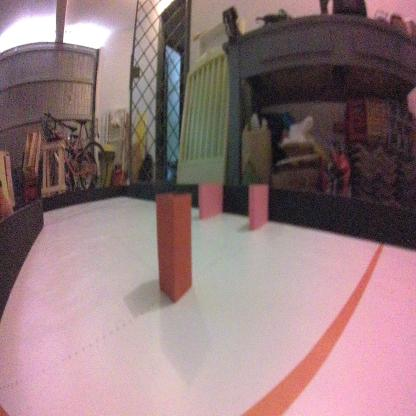magenta: (247, 176, 272, 233), (196, 178, 224, 225)
red: (154, 188, 192, 300)
